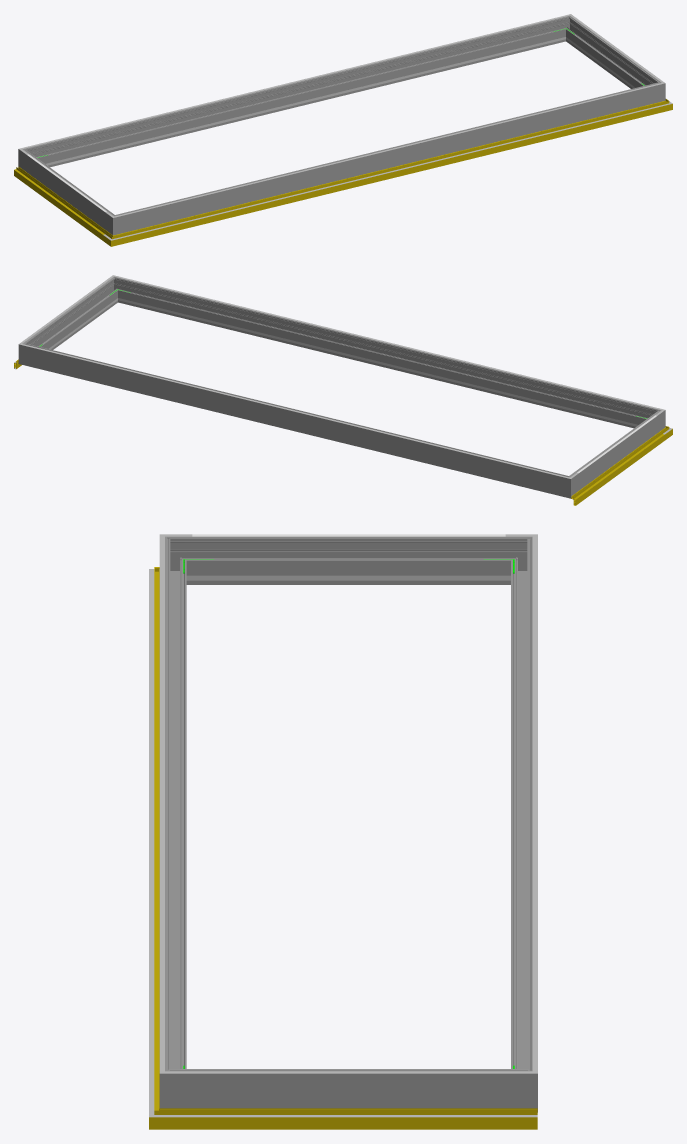
3 renders of one model, top to bottom at view 1: azimuth 30°, elevation 25°; view 2: azimuth 150°, elevation 25°; view 3: azimuth 270°, elevation 25°, orthographic. The views are drawn at different scales.
Parts seen in each view (by area): view 1: 3DGeom-277, 3DGeom-299, 3DGeom-90, 3DGeom-298, 3DGeom-269, 3DGeom-245, 3DGeom-85, 3DGeom-100, 3DGeom-305, 3DGeom-317, 3DGeom-271; view 2: 3DGeom-299, 3DGeom-277, 3DGeom-298, 3DGeom-269, 3DGeom-240, 3DGeom-85, 3DGeom-305, 3DGeom-317, 3DGeom-279; view 3: 3DGeom-269, 3DGeom-298, 3DGeom-299, 3DGeom-277, 3DGeom-97, 3DGeom-90, 3DGeom-100, 3DGeom-305, 3DGeom-317, 3DGeom-233, 3DGeom-285, 3DGeom-291 (+5 smaller).
Part boxes in pixels (x1=…): 3DGeom-277: x1=34, y1=18, x2=563, y2=167; 3DGeom-299: x1=125, y1=85, x2=651, y2=231; 3DGeom-90: x1=122, y1=103, x2=658, y2=243; 3DGeom-298: x1=567, y1=20, x2=654, y2=88; 3DGeom-269: x1=26, y1=154, x2=108, y2=229; 3DGeom-245: x1=50, y1=40, x2=552, y2=164; 3DGeom-85: x1=14, y1=166, x2=107, y2=240; 3DGeom-100: x1=124, y1=106, x2=658, y2=237; 3DGeom-305: x1=33, y1=17, x2=557, y2=146; 3DGeom-317: x1=126, y1=86, x2=650, y2=214; 3DGeom-271: x1=105, y1=211, x2=126, y2=235; 3DGeom-299: x1=120, y1=279, x2=650, y2=428; 3DGeom-277: x1=32, y1=346, x2=559, y2=495; 3DGeom-298: x1=29, y1=281, x2=116, y2=349; 3DGeom-269: x1=574, y1=415, x2=657, y2=490; 3DGeom-240: x1=131, y1=301, x2=633, y2=425; 3DGeom-85: x1=571, y1=431, x2=664, y2=505; 3DGeom-305: x1=33, y1=347, x2=557, y2=475; 3DGeom-317: x1=126, y1=278, x2=650, y2=407; 3DGeom-279: x1=557, y1=472, x2=578, y2=498; 3DGeom-269: x1=192, y1=536, x2=505, y2=584; 3DGeom-298: x1=192, y1=1069, x2=505, y2=1108; 3DGeom-299: x1=165, y1=548, x2=186, y2=1068; 3DGeom-277: x1=511, y1=548, x2=532, y2=1068; 3DGeom-97: x1=181, y1=1108, x2=537, y2=1129; 3DGeom-90: x1=154, y1=578, x2=159, y2=1103; 3DGeom-100: x1=149, y1=582, x2=154, y2=1103; 3DGeom-305: x1=532, y1=548, x2=537, y2=1059; 3DGeom-317: x1=159, y1=548, x2=164, y2=1059; 3DGeom-233: x1=218, y1=575, x2=479, y2=580; 3DGeom-285: x1=505, y1=1060, x2=537, y2=1112; 3DGeom-291: x1=159, y1=1060, x2=191, y2=1108.
Size of the model in its own units: 6.1 by 0.2667 by 1.83.
